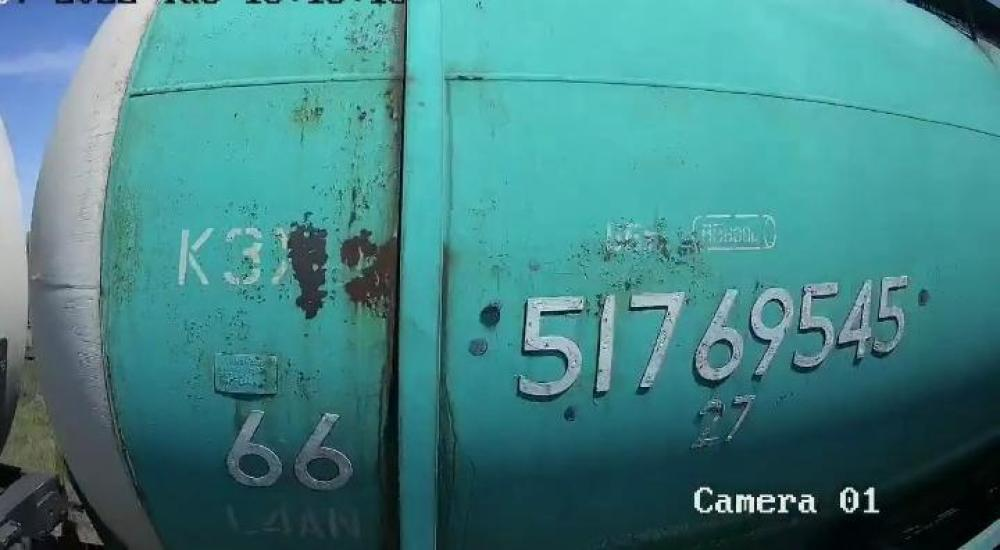Wagon-number: (514, 267, 913, 406)
